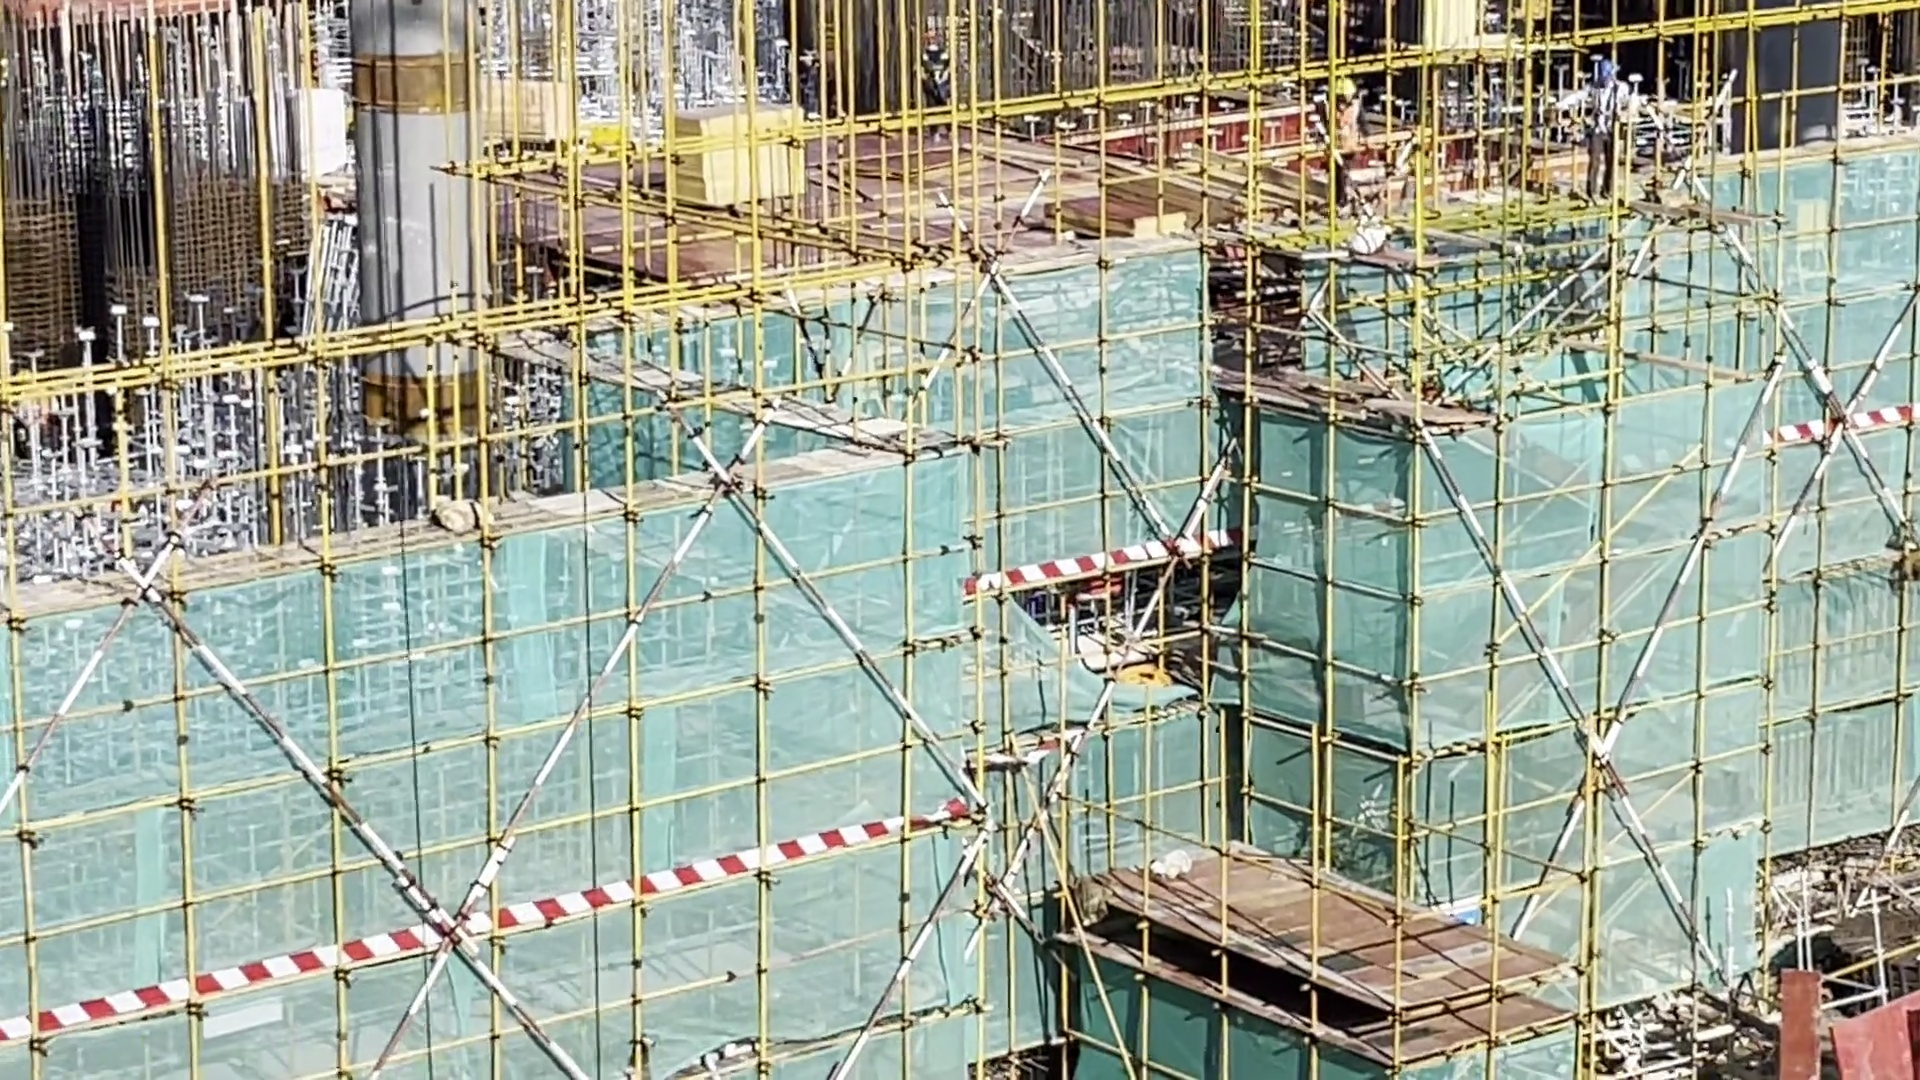board: (676, 102, 809, 191), (1046, 197, 1174, 272)
helmet: (1599, 61, 1619, 88), (1339, 78, 1353, 107), (921, 35, 943, 51), (776, 36, 788, 58)
person: (1589, 66, 1639, 225), (1317, 80, 1372, 206), (769, 31, 837, 118), (907, 25, 957, 125)
vest: (788, 50, 835, 102), (1579, 86, 1619, 144), (915, 47, 956, 105), (1328, 92, 1361, 162)
wood: (1141, 136, 1293, 244), (499, 59, 569, 134)
